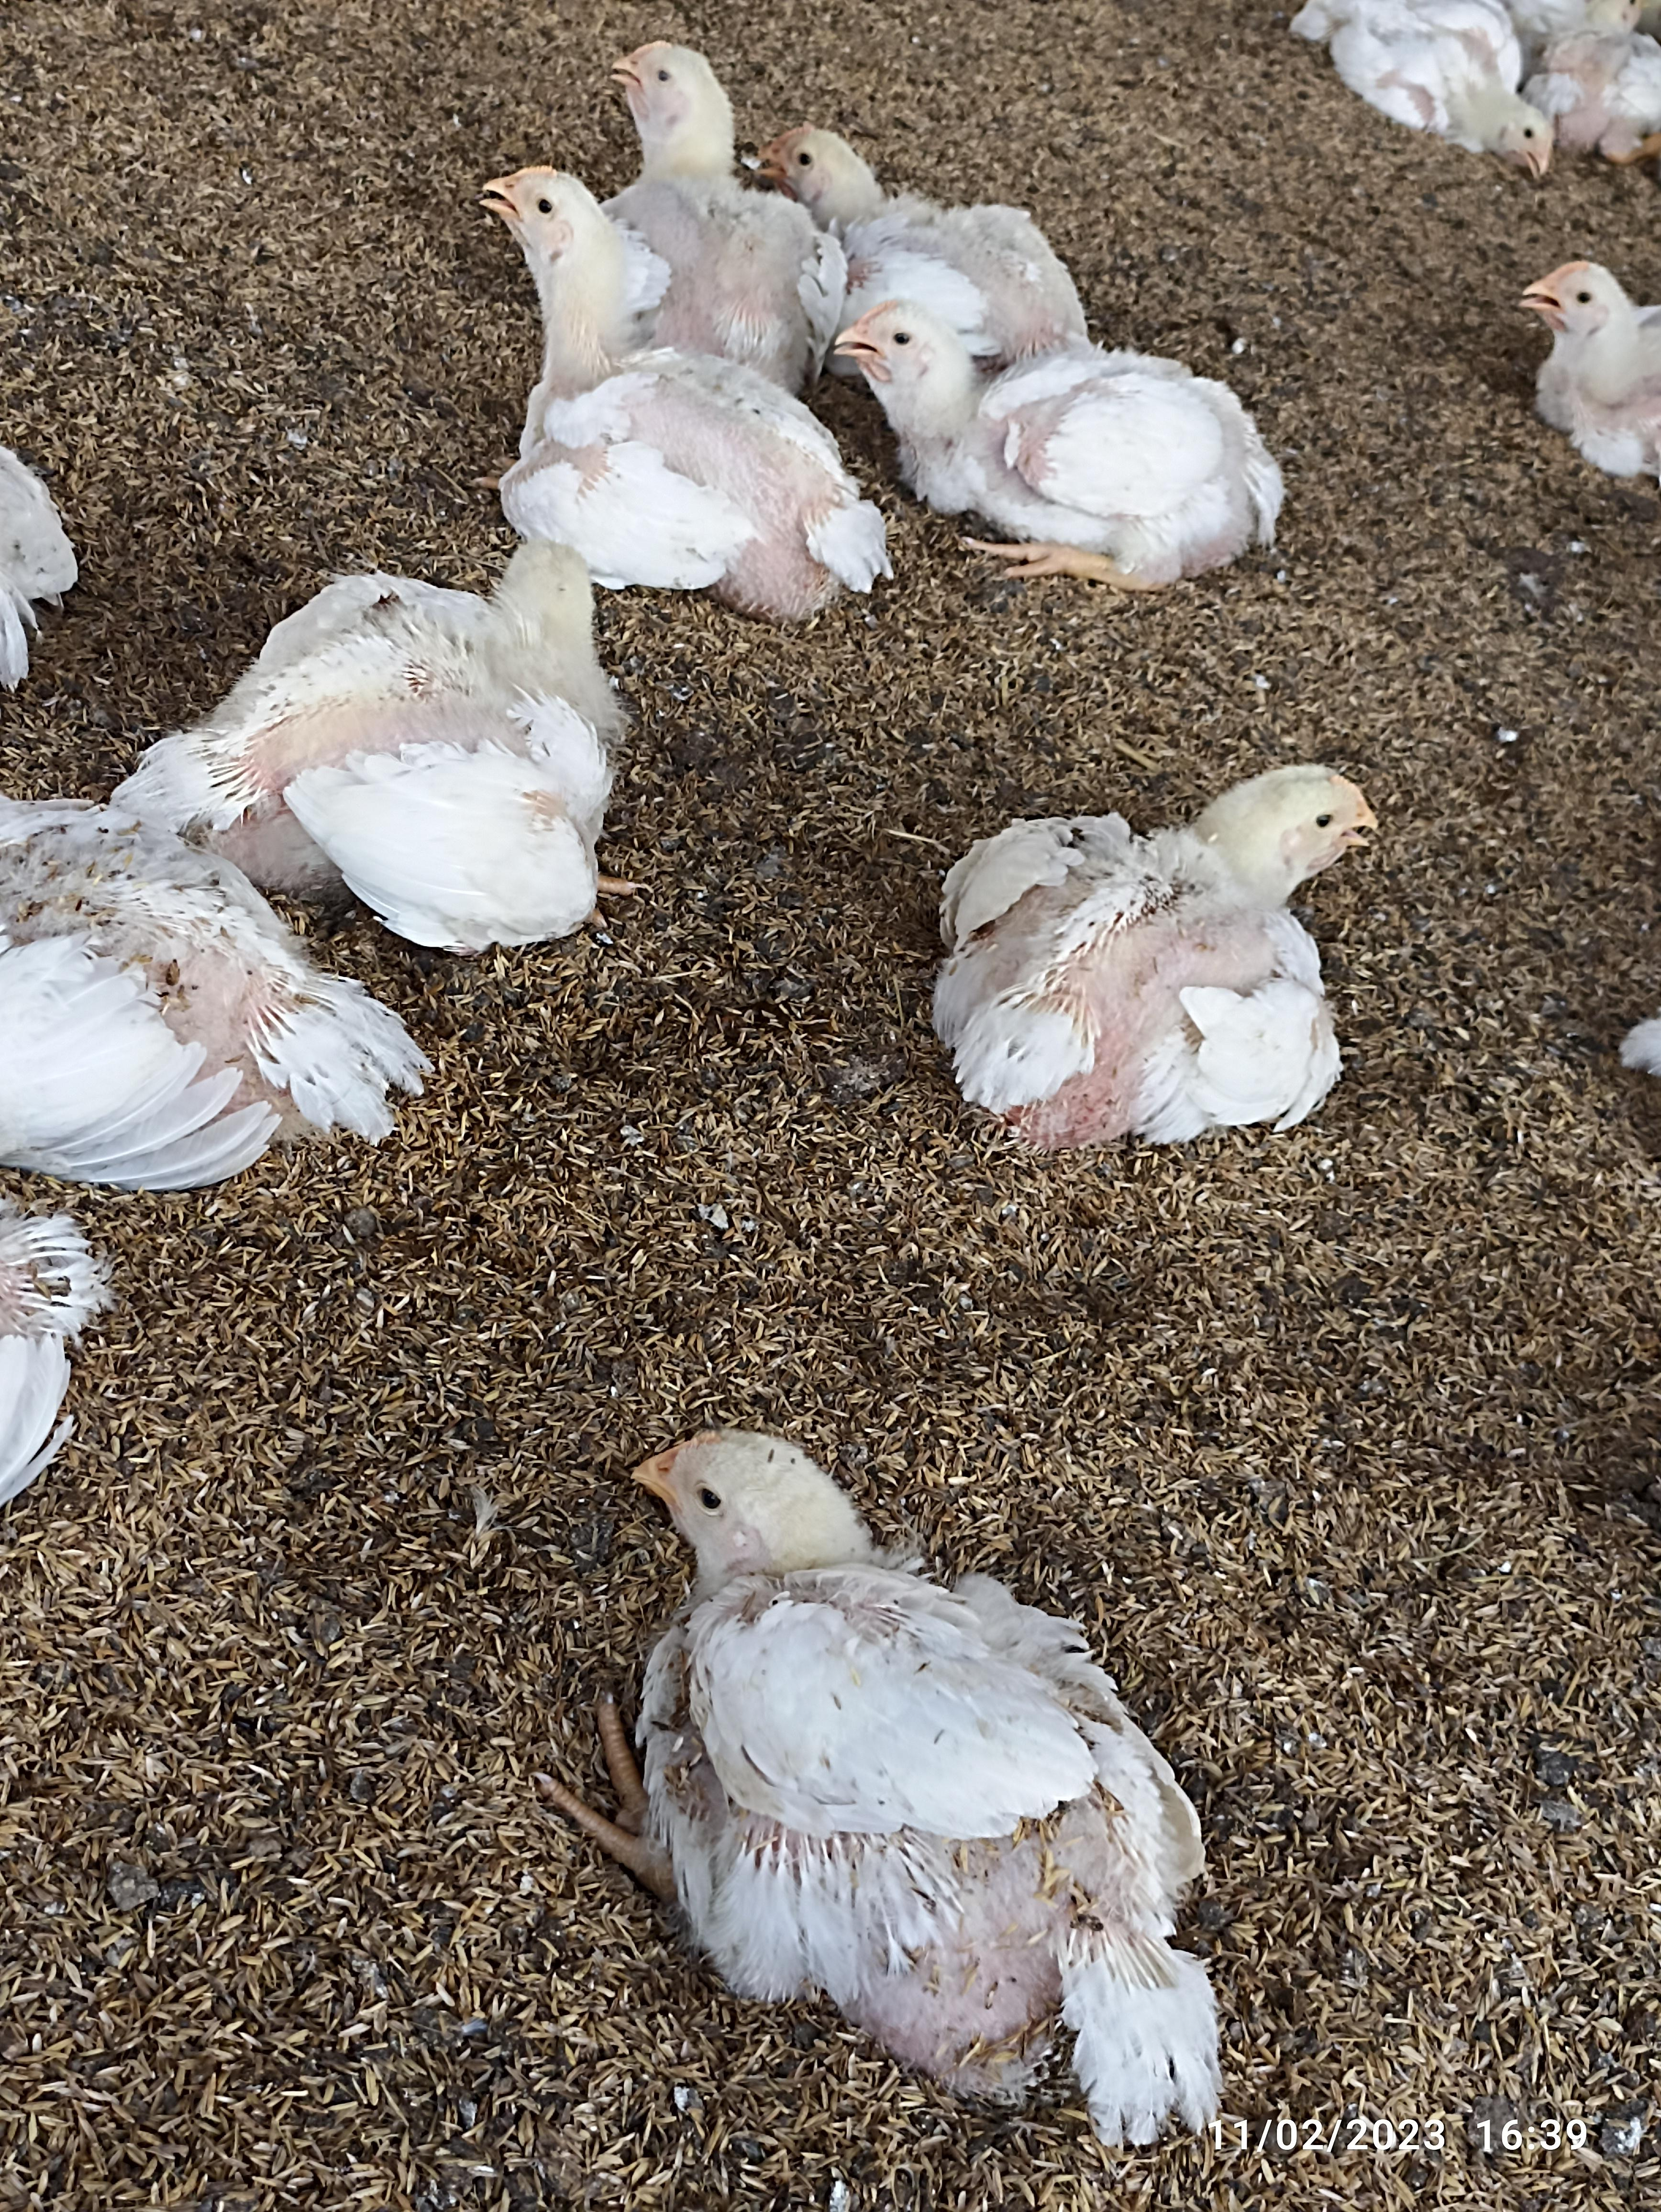Pollos: (630, 1413, 1244, 2147), (930, 748, 1371, 1123), (164, 527, 612, 886), (468, 169, 811, 597), (844, 297, 1260, 579), (595, 21, 764, 286)
